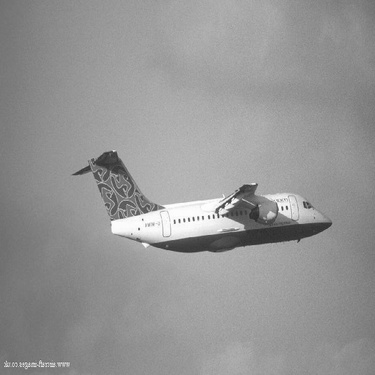airplane: (63, 131, 344, 262)
